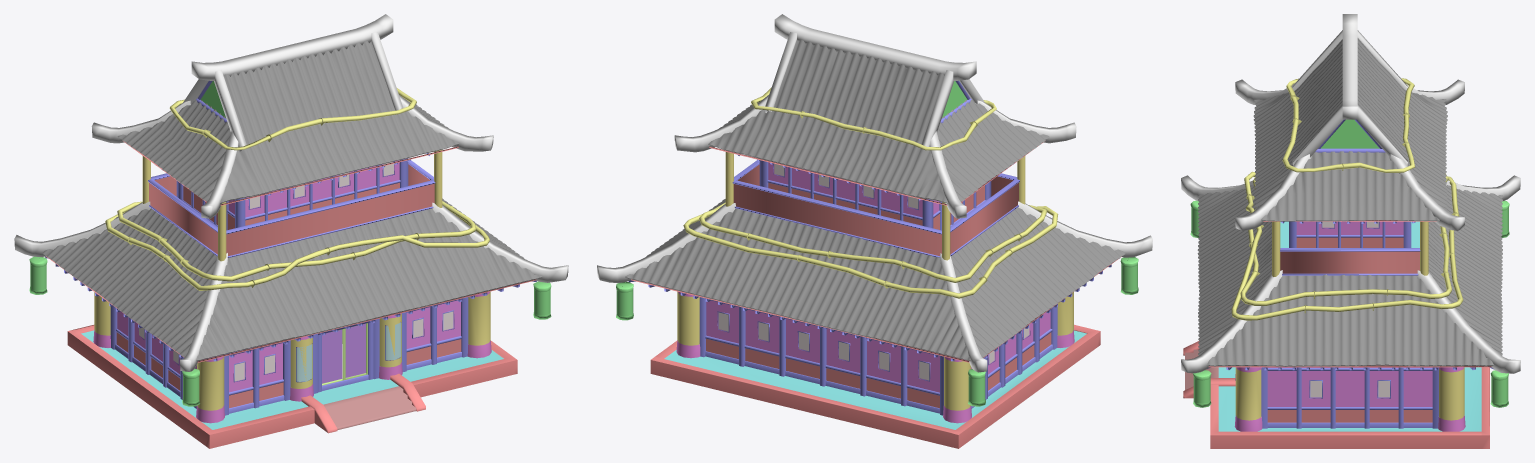
Rendered from SM_ENV_LKNVLD_Building_C_Lod2.gltf.
3 views of the same model, side by side, from view 1: azimuth 30°, elevation 25°; view 2: azimuth 150°, elevation 25°; view 3: azimuth 270°, elevation 25° (orthographic).
Visible parts, largest first — view 1: SM_ENV_LKNVLD_Building_C_Lod2; view 2: SM_ENV_LKNVLD_Building_C_Lod2; view 3: SM_ENV_LKNVLD_Building_C_Lod2.
Part boxes in pixels (<box>): SM_ENV_LKNVLD_Building_C_Lod2: <box>14,14,568,448</box>; SM_ENV_LKNVLD_Building_C_Lod2: <box>597,14,1152,448</box>; SM_ENV_LKNVLD_Building_C_Lod2: <box>1181,14,1520,448</box>.
Size of the model in its own units: 26.35 by 20.58 by 20.18.
